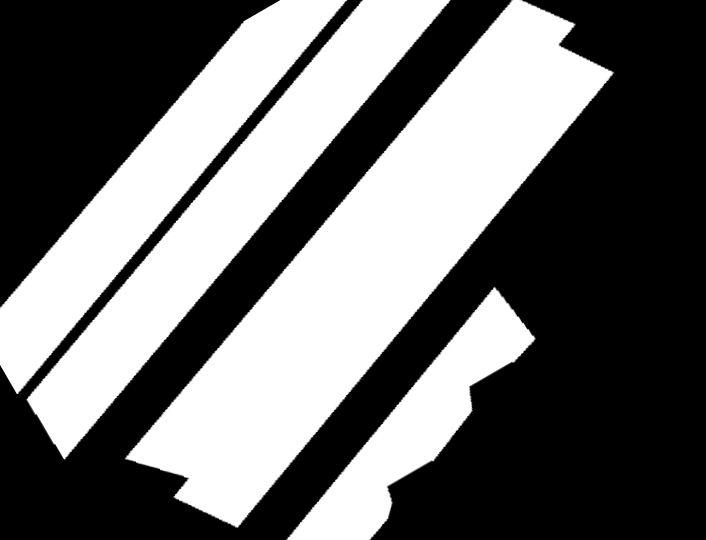parkingspot: (125, 0, 614, 528), (27, 0, 450, 459), (0, 0, 347, 394), (287, 287, 535, 540)
